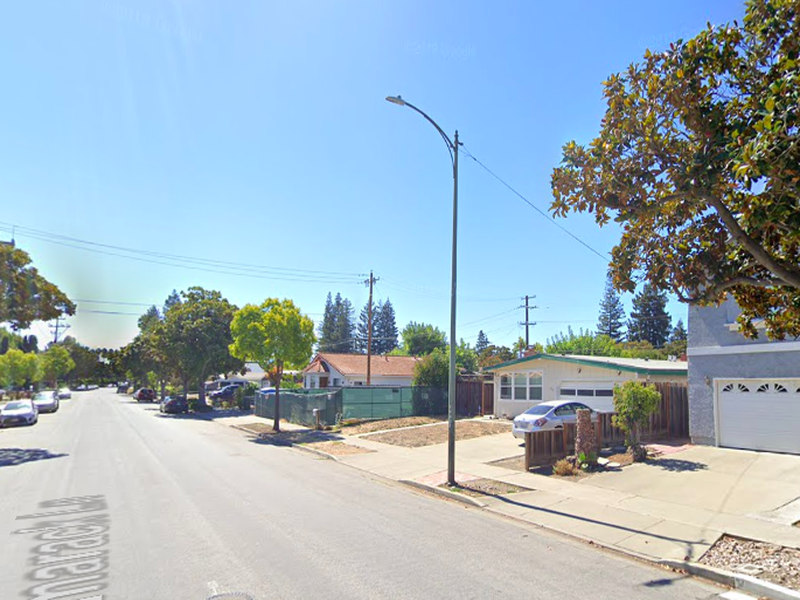utility_pole: (510, 284, 544, 335), (354, 260, 383, 306)
